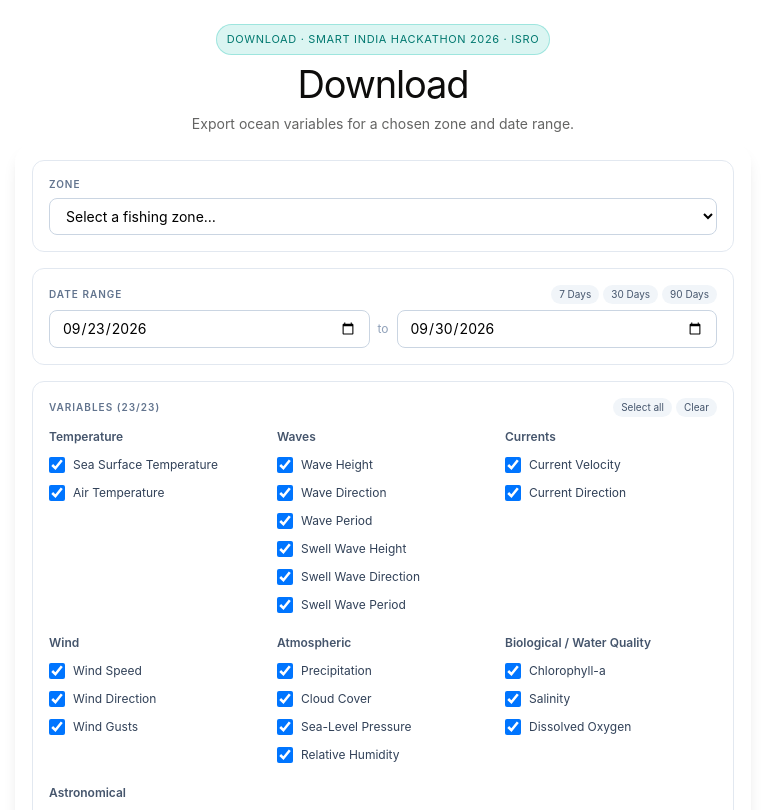
it: DownloadPage — export gating › Export is disabled once every variable is cleared
Select "PFZ-001 — near Kochi" in the dropdown. click: (383, 217)
box: [49,198,717,235]
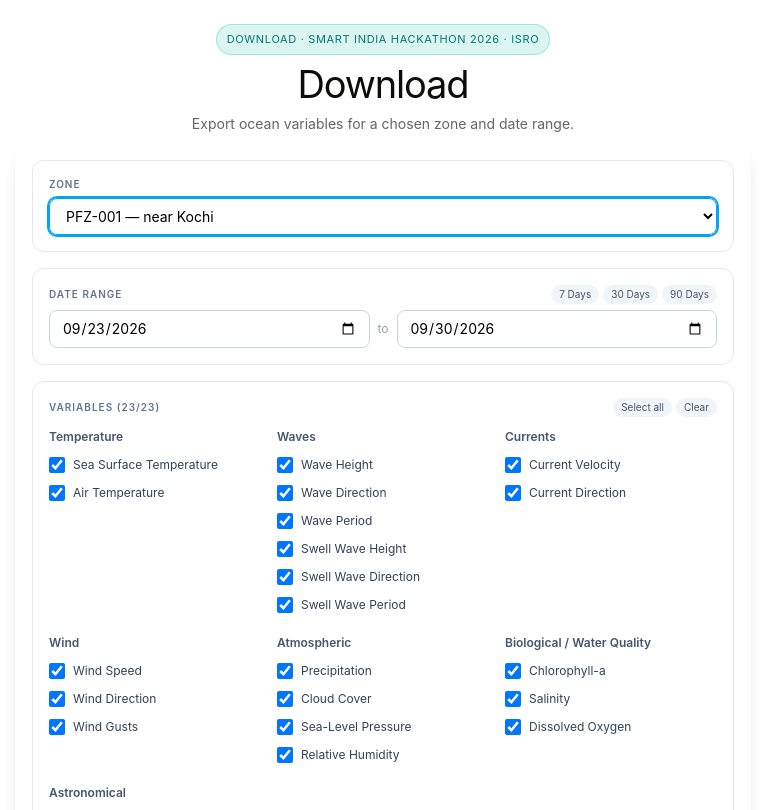
Click the button "Clear". click: (696, 408)
box: [676,398,717,417]
(page scrolled)
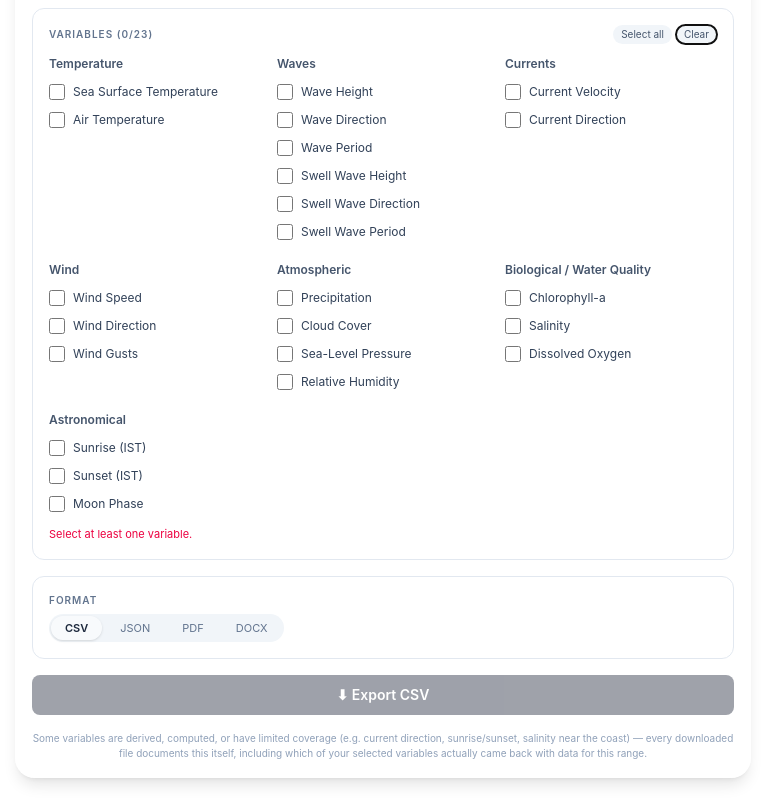
Expected: the text "Select at least one variable." is shown, [49,527,192,541]
Expected: the button "⬇ Export CSV" is disabled, [32,675,734,715]
